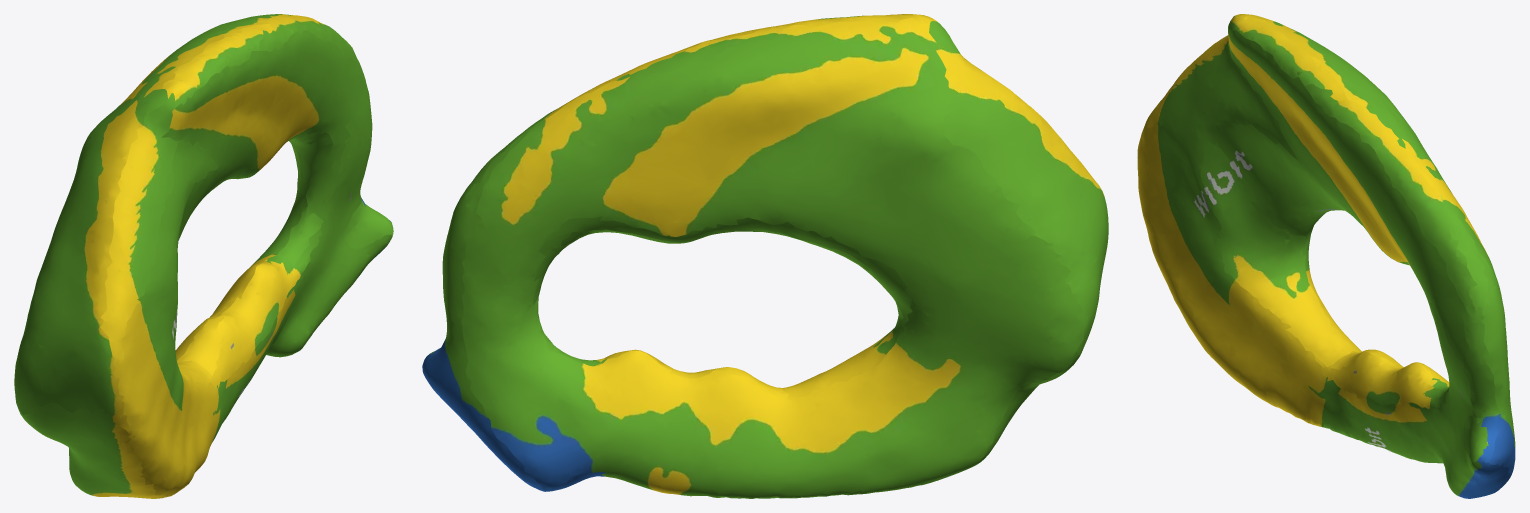
The model's file is actionloop.glb.
3 views of the same model, side by side, from view 1: azimuth 30°, elevation 25°; view 2: azimuth 150°, elevation 25°; view 3: azimuth 270°, elevation 25° (orthographic). The views are drawn at different scales.
Parts seen in each view (by area): view 1: geometry_0; view 2: geometry_0; view 3: geometry_0.
Boxes of the visible parts, x1,y1,x2,y2 form: geometry_0: [14, 14, 393, 498]; geometry_0: [422, 14, 1108, 498]; geometry_0: [1137, 14, 1515, 498].
Size of the model in its own units: 0.8771 by 0.6925 by 0.6241.
Materials: 1 (1 with a texture image).
